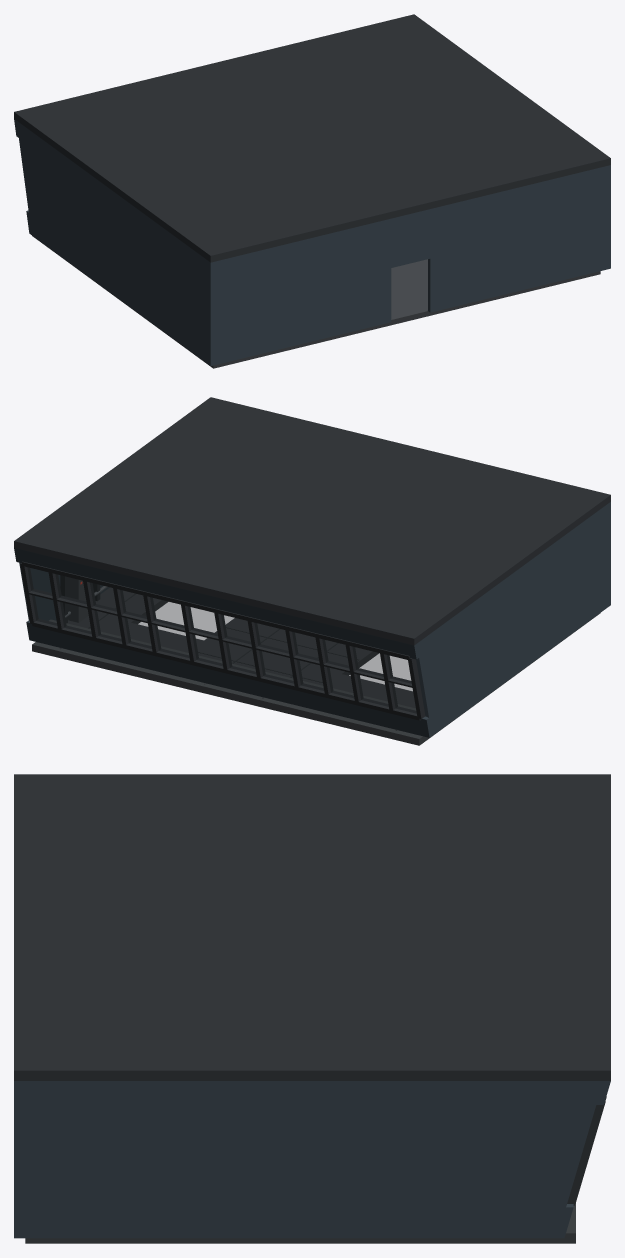
The model's file is hum_bridge_room.glb.
The picture shows the model from 3 angles, top to bottom: view 1: azimuth 30°, elevation 25°; view 2: azimuth 150°, elevation 25°; view 3: azimuth 270°, elevation 25°; orthographic projection. The views are drawn at different scales.
Parts seen in each view (by area): view 1: ceiling, walls-col, door, floor-col; view 2: ceiling, walls-col, window_frames, bridge_glass, floor-col, wall_detail; view 3: ceiling, walls-col, floor-col, window_frames.
Part boxes in pixels (x1,y1,x2,y2): ceiling: [14, 14, 610, 262]; walls-col: [14, 119, 610, 365]; door: [391, 259, 427, 319]; floor-col: [32, 235, 600, 368]; ceiling: [14, 397, 610, 645]; walls-col: [14, 502, 610, 737]; window_frames: [20, 561, 425, 720]; bridge_glass: [27, 567, 416, 713]; floor-col: [32, 587, 600, 745]; wall_detail: [60, 575, 107, 622]; ceiling: [14, 774, 610, 1080]; walls-col: [14, 1081, 610, 1238]; floor-col: [25, 1203, 575, 1243]; window_frames: [567, 1096, 606, 1205].
Size of the model in its own units: 18.6 by 5.2 by 15.83.
Materials: 4 (4 with a texture image).
